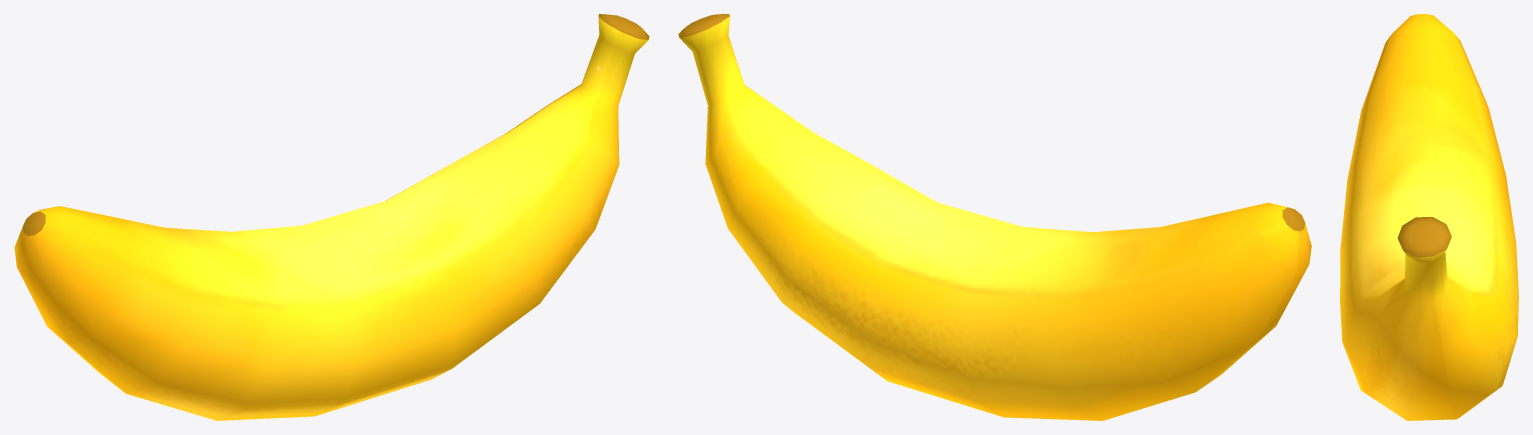
The model's file is yellow_banana.glb.
3 views of the same model, side by side, from view 1: azimuth 30°, elevation 25°; view 2: azimuth 150°, elevation 25°; view 3: azimuth 270°, elevation 25° (orthographic). The views are drawn at different scales.
Visible parts, largest first — view 1: yellow_banana; view 2: yellow_banana; view 3: yellow_banana.
Boxes of the visible parts, x1,y1,x2,y2 form: yellow_banana: (14,14,649,420); yellow_banana: (678,14,1311,420); yellow_banana: (1340,14,1518,420).
Bounding box in the file's own units: 0.8995 × 0.4348 × 0.2417.
1 material, 1 textured.
